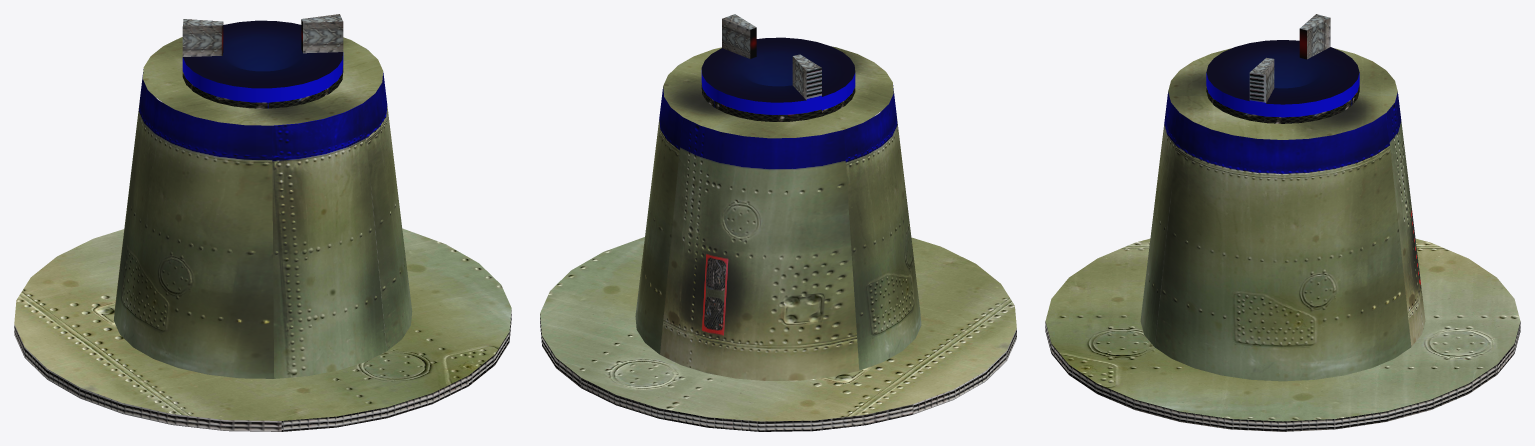
File: towerB_Blue.fbx
The picture shows the model from 3 angles, left to right: view 1: azimuth 30°, elevation 25°; view 2: azimuth 150°, elevation 25°; view 3: azimuth 270°, elevation 25°; orthographic projection. The views are drawn at different scales.
Visible parts, largest first — view 1: pCylinder1; view 2: pCylinder1; view 3: pCylinder1.
Part boxes in pixels (x1,y1,x2,y2): pCylinder1: (14,14,511,431); pCylinder1: (540,14,1016,431); pCylinder1: (1045,14,1520,431).
Size of the model in its own units: 24.3 by 16.28 by 24.3.
1 material, 1 textured.
